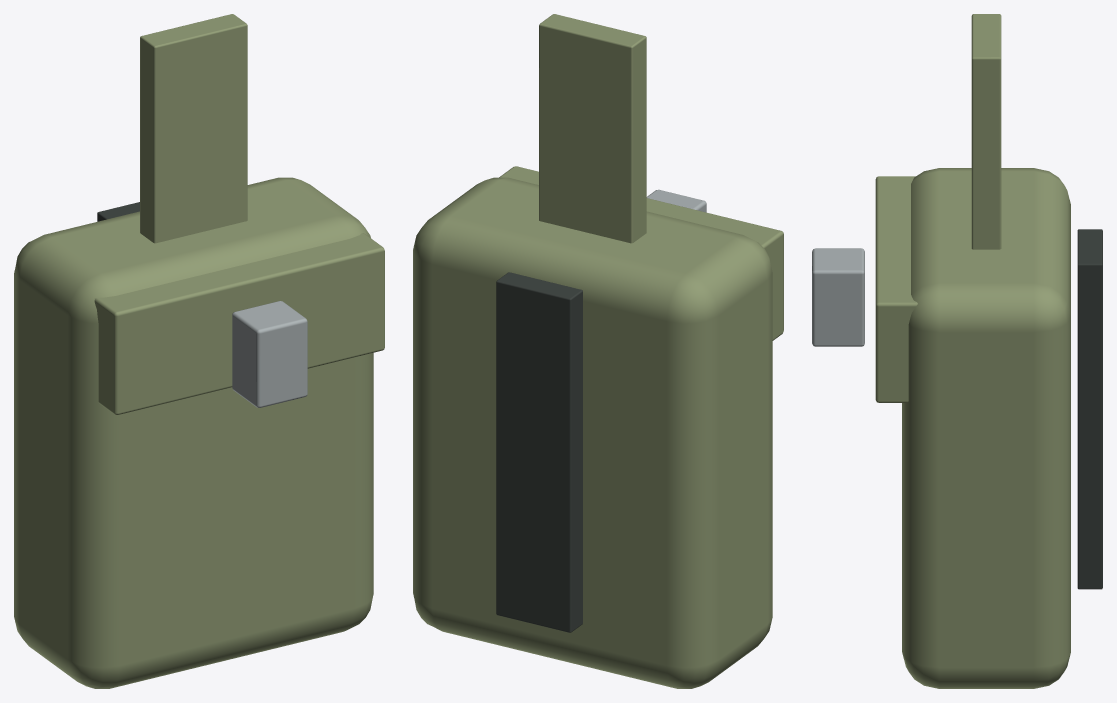
File: backpacks-and-expedition-storage-canteen-cover-3b0debb2__21098.glb
3 views of the same model, side by side, from view 1: azimuth 30°, elevation 25°; view 2: azimuth 150°, elevation 25°; view 3: azimuth 270°, elevation 25° (orthographic). The views are drawn at different scales.
Parts seen in each view (by area): view 1: canteen-cover, flap/canvas, neck-flap/canvas; view 2: canteen-cover, neck-flap/canvas, flap/canvas; view 3: canteen-cover, flap/canvas, neck-flap/canvas.
Boxes of the visible parts, x1,y1,x2,y2 form: canteen-cover: [14, 177, 373, 688]; flap/canvas: [94, 233, 384, 414]; neck-flap/canvas: [140, 14, 247, 243]; canteen-cover: [413, 177, 772, 688]; neck-flap/canvas: [539, 14, 646, 243]; flap/canvas: [499, 166, 783, 340]; canteen-cover: [812, 168, 1102, 688]; flap/canvas: [875, 176, 917, 402]; neck-flap/canvas: [971, 14, 1001, 249].
Bounding box in the file's own units: 0.16 × 0.31 × 0.1375.
